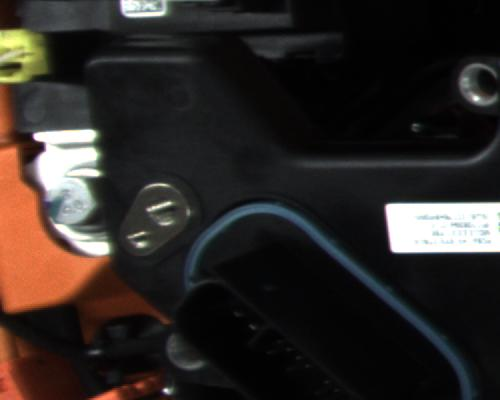nut_b: (44, 165, 105, 250)
